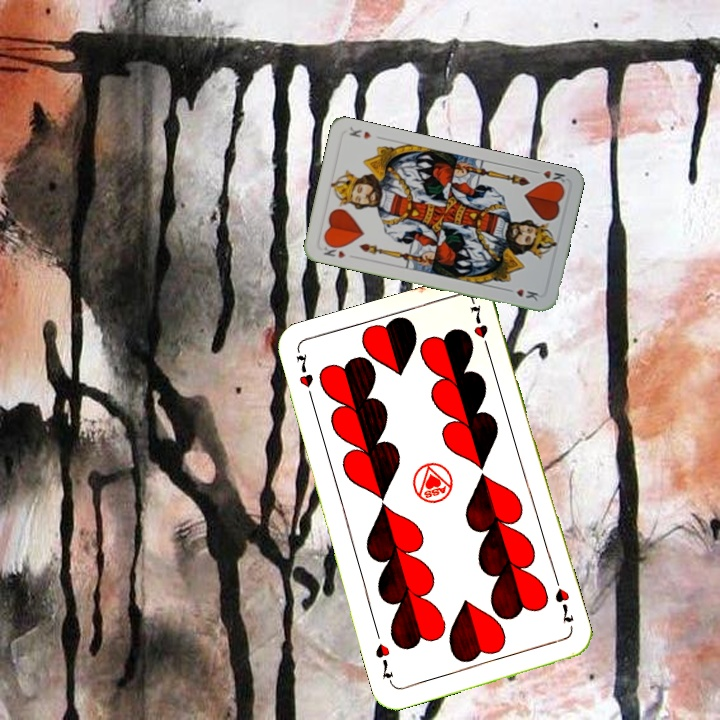H7: (292, 349, 317, 406), (551, 584, 577, 625)
HK: (529, 166, 569, 189), (319, 239, 348, 261)
